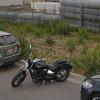Motorcycle: (7, 47, 74, 98)
